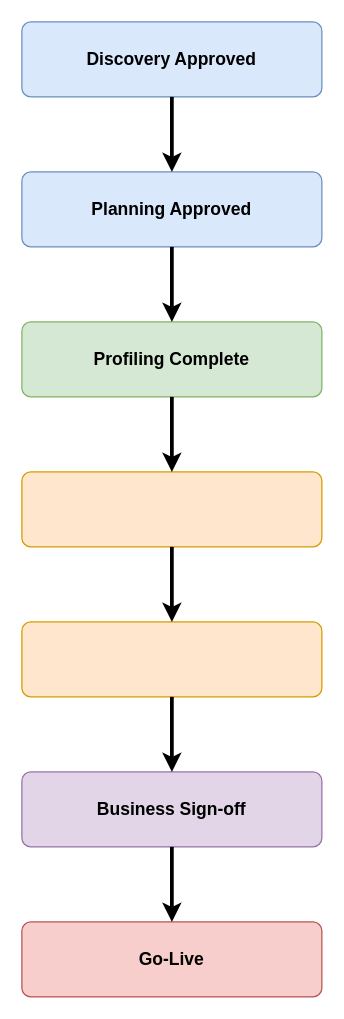
This 344x1019 diagram has some shape labels left out. Each missing label, with the box of its shape:
Smoke Tests Passed: (21, 621, 322, 697)
Validation Passed: (21, 471, 322, 547)
